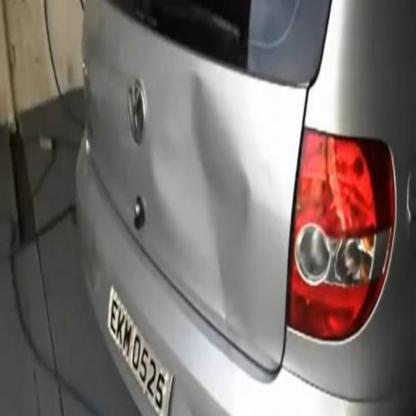headlamp: (287, 126, 395, 343)
rear_bumper: (77, 119, 414, 415)
